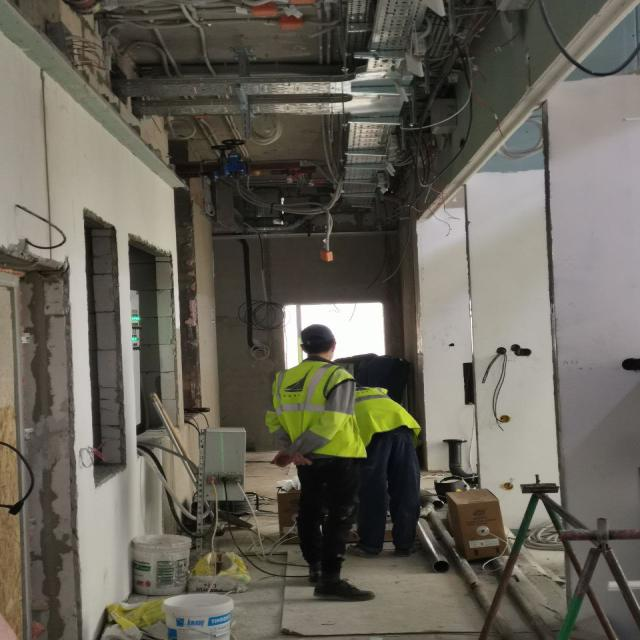NoHelmet: (299, 324, 343, 364)
